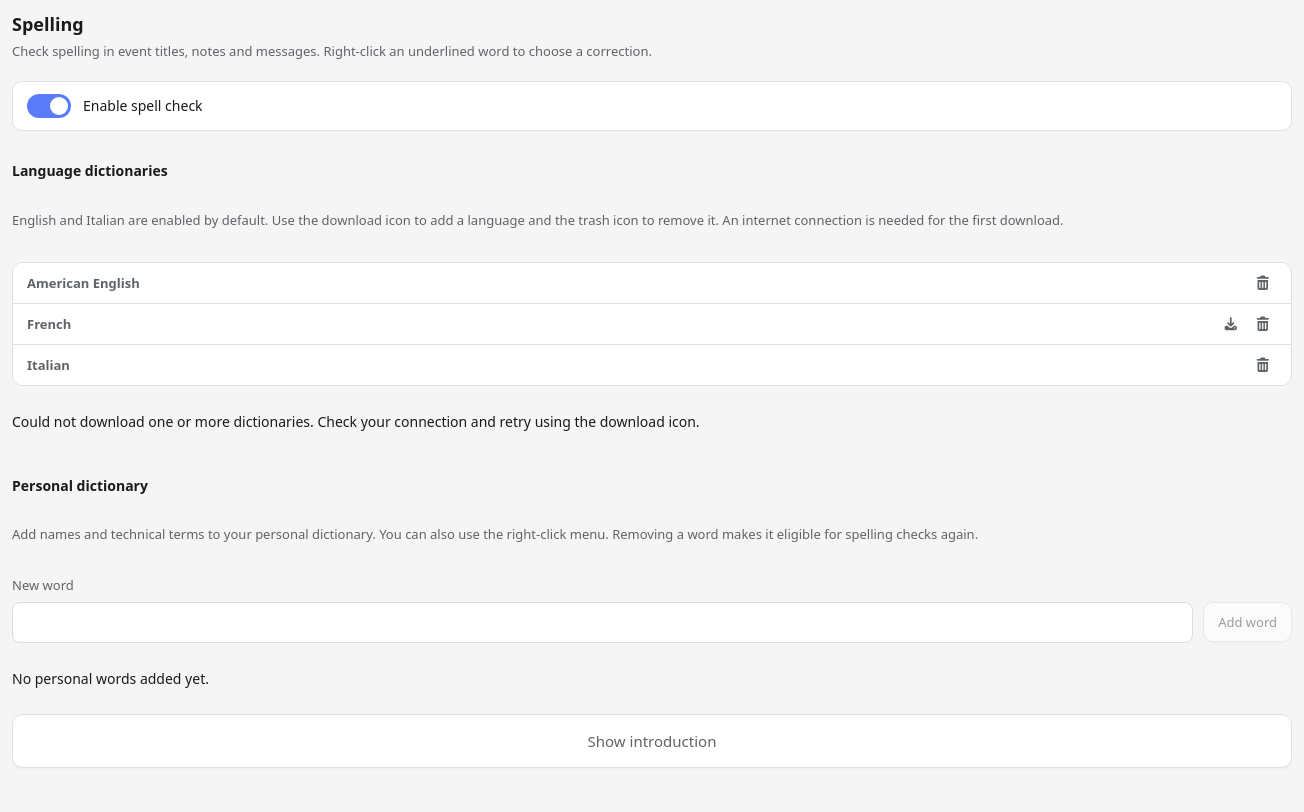
Scenario: settings dialog › removes a failed dictionary with spell checking enabled=true
Expected: the button named "Retry downloading French dictionary" is enabled, [1217, 310, 1245, 338]
What coordinates should you click on to do the following:
click the button named "Remove French dictionary"
I would click on:
 (1263, 324)
Its box is [1249, 310, 1277, 338].
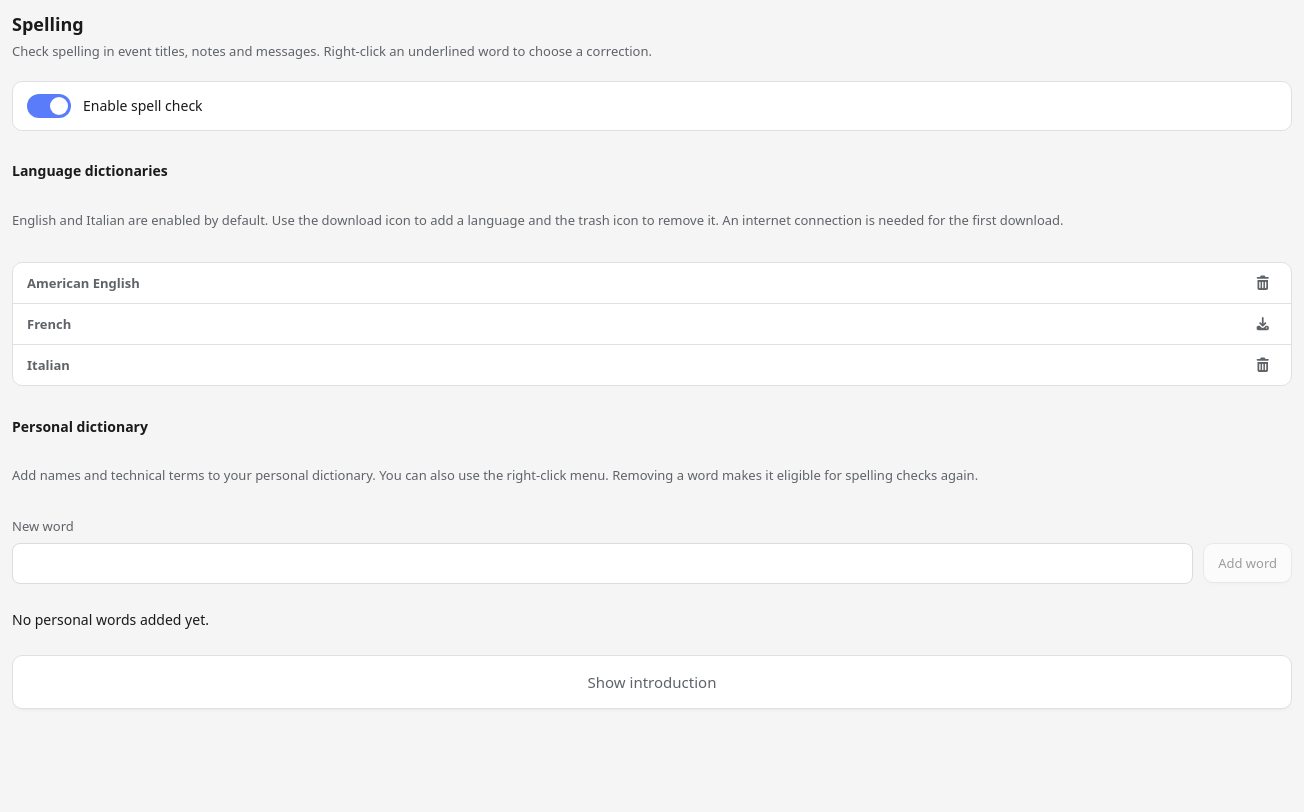
Result: the button named "Download French dictionary" is shown at [1249, 310, 1277, 338]
Result: the message is gone
